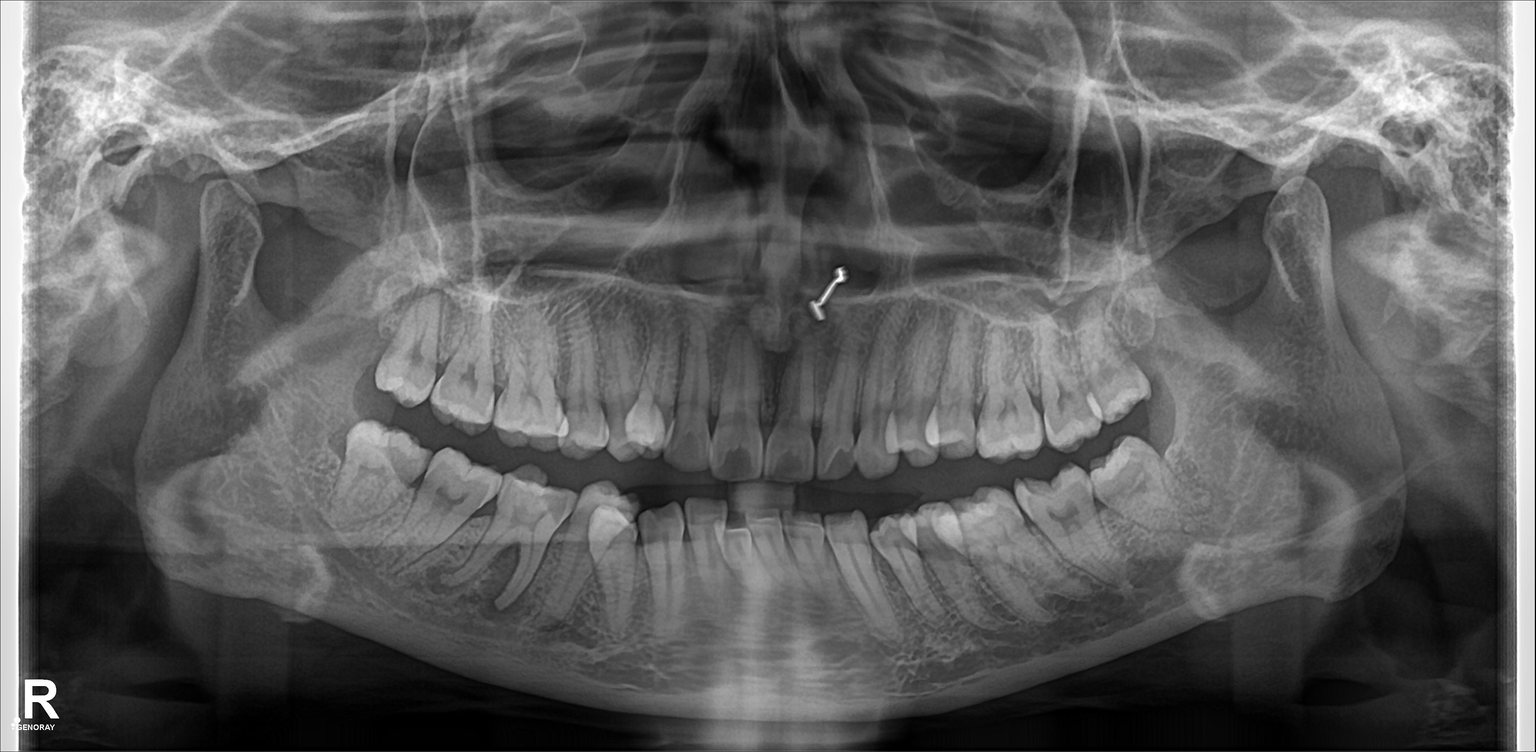Dental Caries: (721, 449, 758, 478), (775, 447, 802, 484)
Impacted Third Molar: (1101, 445, 1186, 535), (350, 424, 420, 523)
